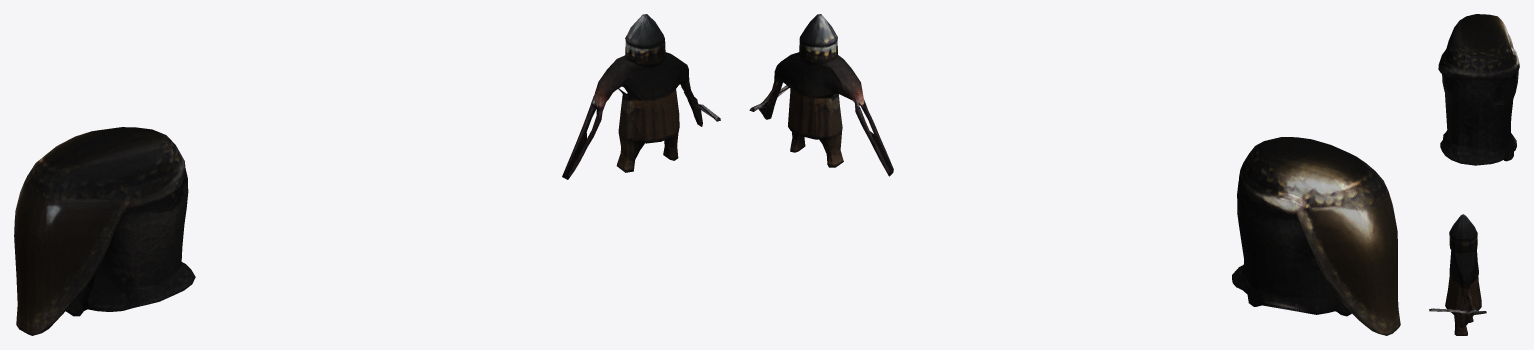
Rendered from trellis_result.glb.
3 views of the same model, side by side, from view 1: azimuth 30°, elevation 25°; view 2: azimuth 150°, elevation 25°; view 3: azimuth 270°, elevation 25° (orthographic). The views are drawn at different scales.
Visible parts, largest first — view 1: world; view 2: world; view 3: world.
Part boxes in pixels (bbox=[...]): world: bbox=[14, 14, 720, 335]; world: bbox=[749, 14, 1400, 335]; world: bbox=[1429, 14, 1519, 335].
Bounding box in the file's own units: 0.9977 × 0.2491 × 0.1558.
1 material, 1 textured.
